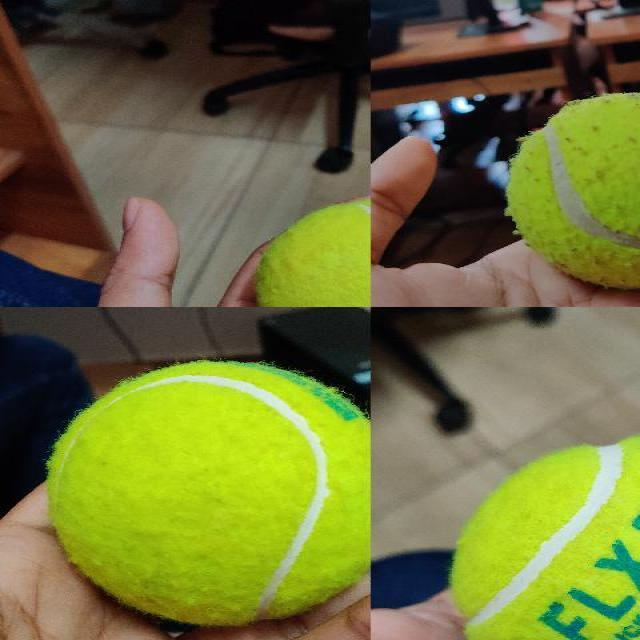tennis-ball: (46, 362, 370, 627), (451, 440, 639, 639), (505, 92, 639, 290), (256, 199, 370, 306)
